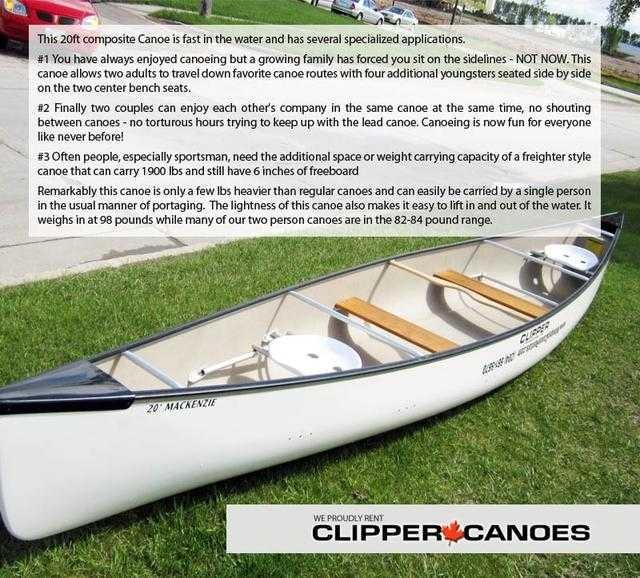kayak: (2, 225, 627, 546)
